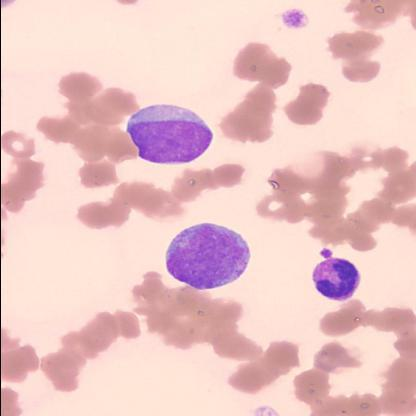Band Neutrophil: (309, 258, 367, 302)
Promyelocyte: (165, 224, 253, 289), (126, 102, 213, 166)
